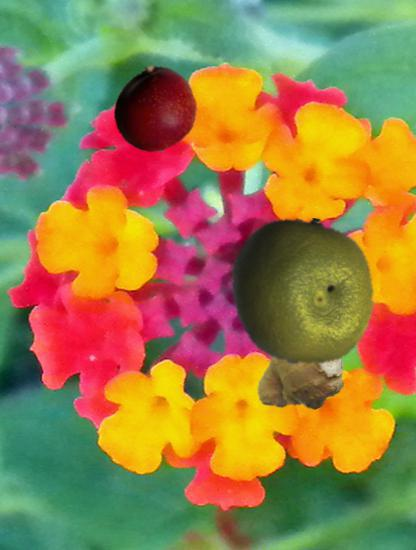Ginger: (244, 313, 346, 415)
Nectarine: (111, 66, 198, 153)
Pomelo: (228, 217, 377, 366)
